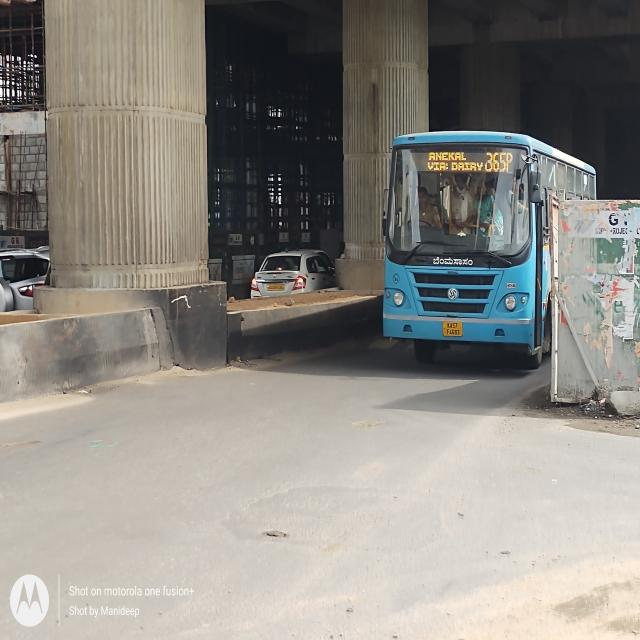bus: (358, 107, 600, 379)
display: (403, 144, 518, 177)
dnumber: (482, 149, 515, 174)
